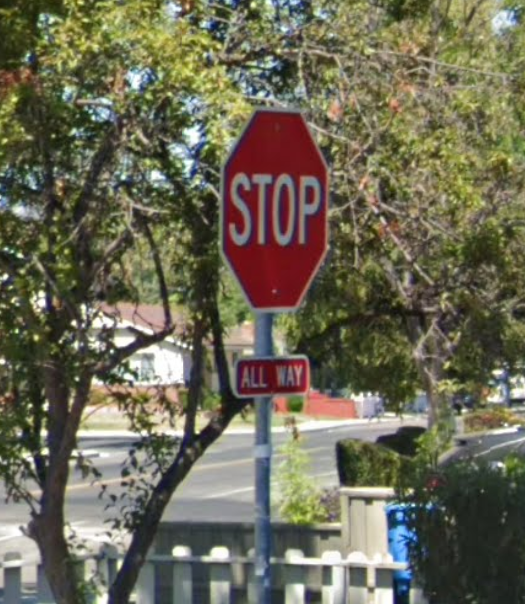stop_sign: (221, 110, 330, 311)
